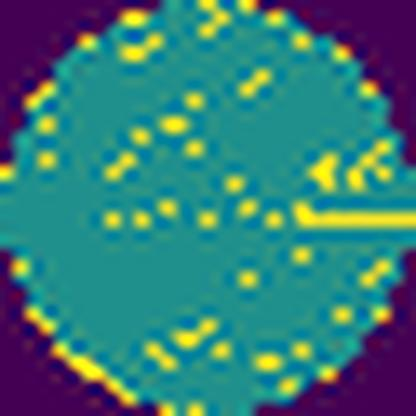Scratch: (290, 198, 416, 235)
